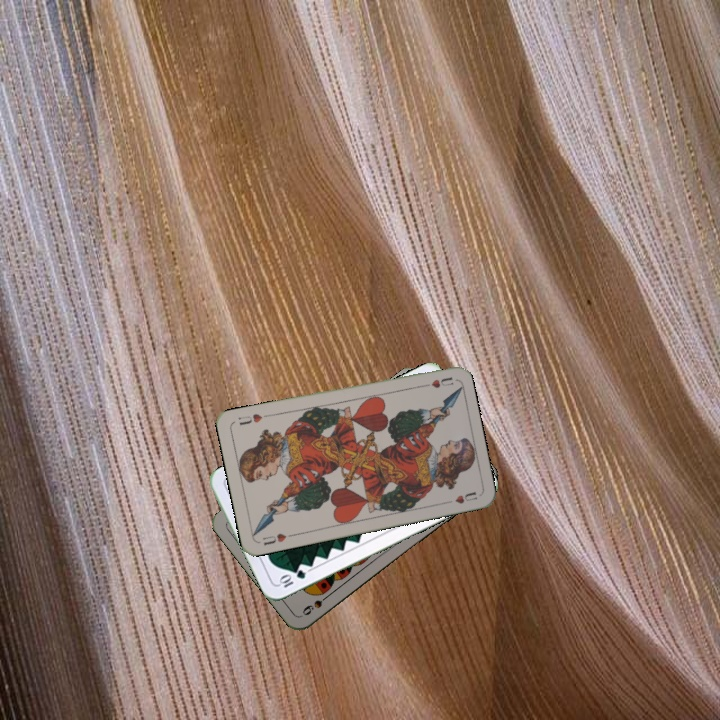G10: (275, 566, 308, 590)
HU: (258, 529, 296, 548), (416, 373, 456, 390)
S9: (298, 589, 333, 618)
